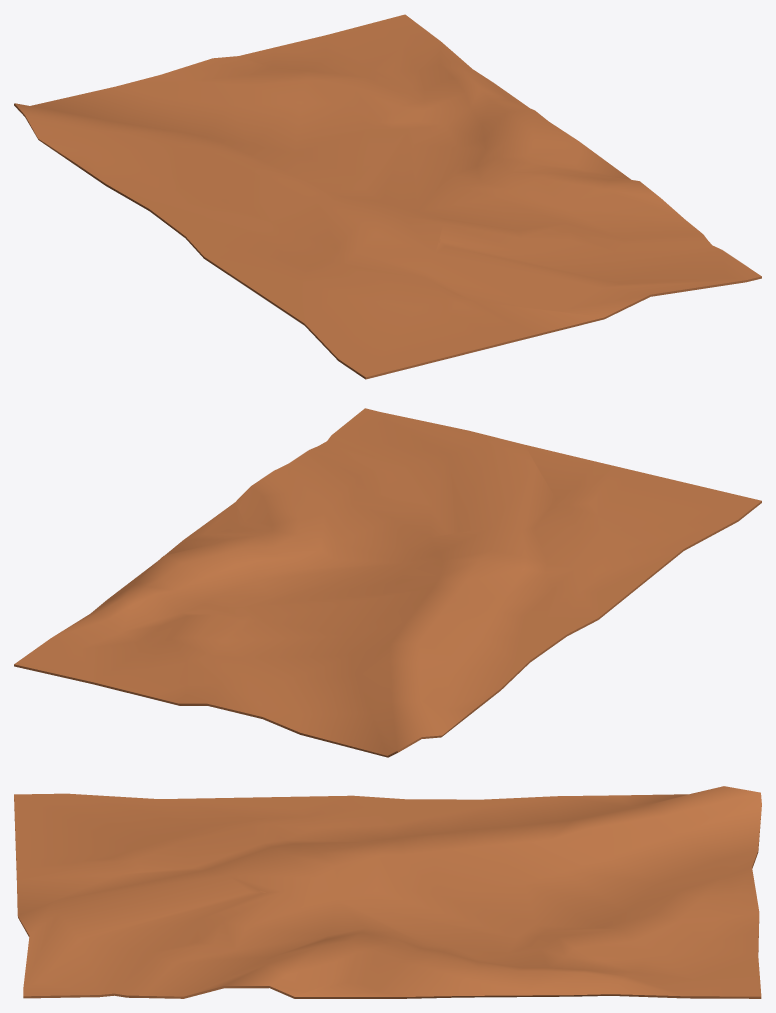
File: blanket.fbx
3 renders of one model, top to bottom at view 1: azimuth 30°, elevation 25°; view 2: azimuth 150°, elevation 25°; view 3: azimuth 270°, elevation 25°, orthographic. The views are drawn at different scales.
Visible parts, largest first — view 1: final_blanket.001; view 2: final_blanket.001; view 3: final_blanket.001.
Boxes of the visible parts, box(x1,y1,x2,y2) form: final_blanket.001: box(14, 14, 761, 379); final_blanket.001: box(14, 408, 761, 757); final_blanket.001: box(14, 786, 761, 998).
Bounding box in the file's own units: 201 × 10.94 × 313.
